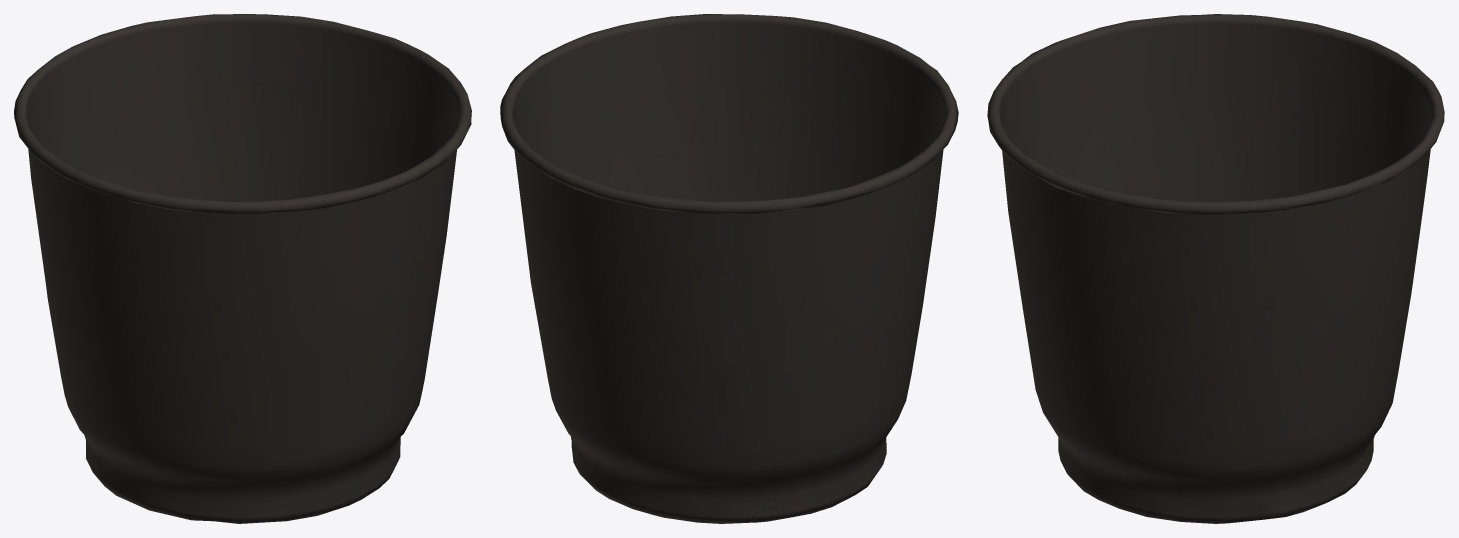
File: broktrast_osonka_doniczki_70635395.glb
3 renders of one model, left to right at view 1: azimuth 30°, elevation 25°; view 2: azimuth 150°, elevation 25°; view 3: azimuth 270°, elevation 25°, orthographic.
Parts seen in each view (by area): view 1: broktrast_osonka_doniczki_70635395; view 2: broktrast_osonka_doniczki_70635395; view 3: broktrast_osonka_doniczki_70635395.
Part boxes in pixels (left/top/right/bottom): broktrast_osonka_doniczki_70635395: left=14, top=14, right=471, bottom=523; broktrast_osonka_doniczki_70635395: left=500, top=14, right=958, bottom=523; broktrast_osonka_doniczki_70635395: left=987, top=14, right=1444, bottom=523.
Size of the model in its own units: 0.1068 by 0.0913 by 0.1068.
1 material, 1 textured.
